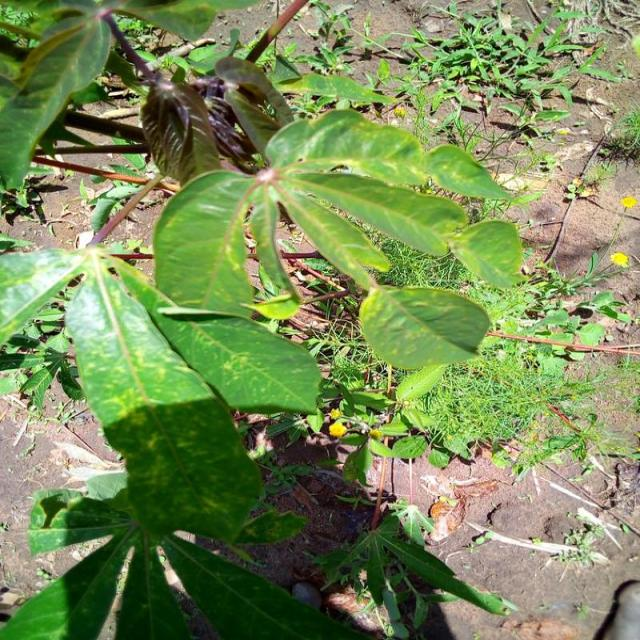cassava leaf: (62, 254, 265, 545), (358, 284, 491, 370)
